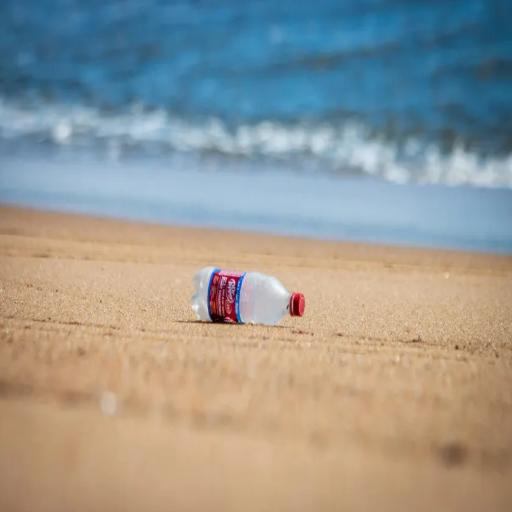bottles: (191, 267, 305, 325)
